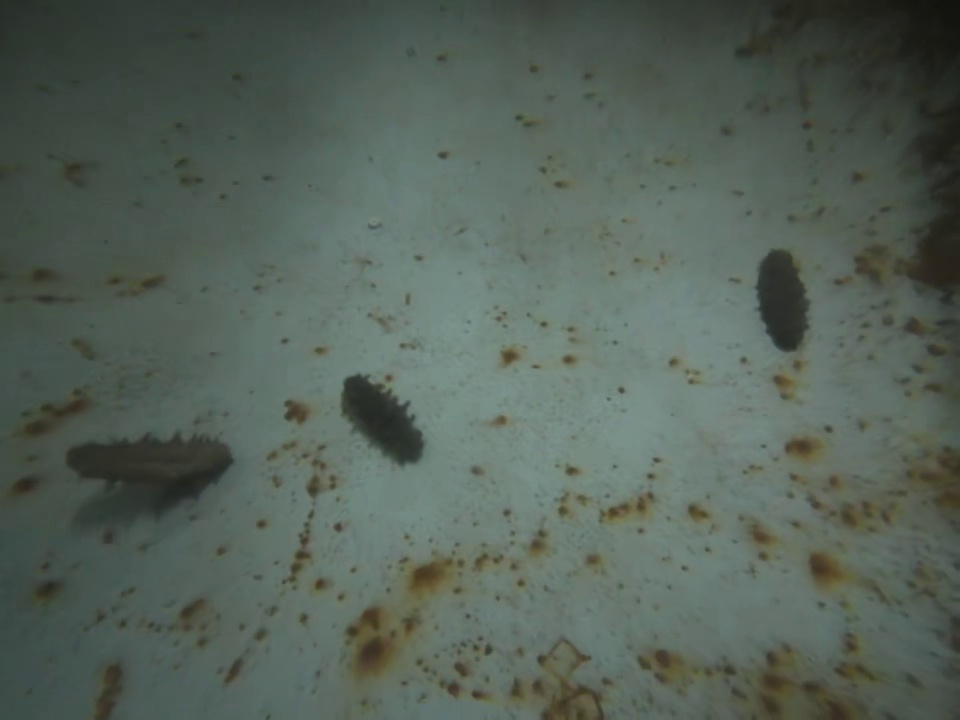seacucumber: (63, 431, 244, 487), (336, 374, 427, 464), (756, 245, 815, 355)
